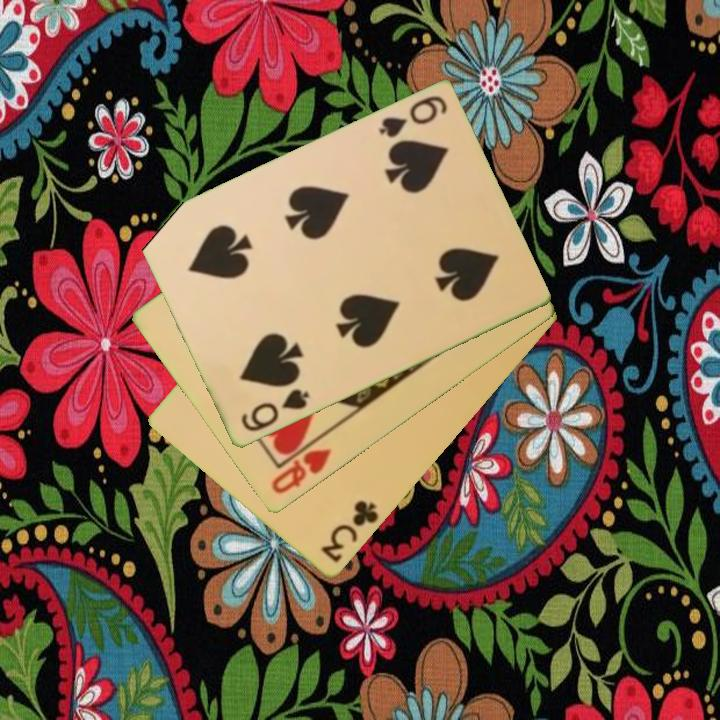3c: (317, 497, 382, 566)
6s: (375, 92, 450, 142), (237, 386, 312, 435)
Qh: (267, 432, 335, 498)
